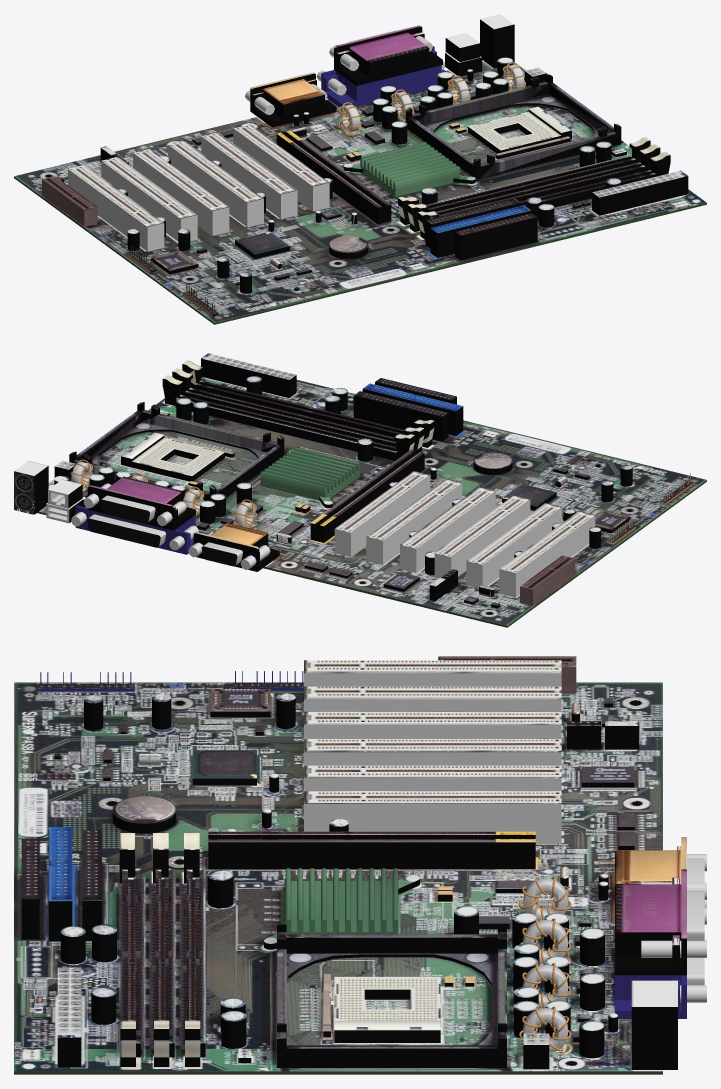
The model's file is motherboard.dae.
3 views of the same model, one above another, from view 1: azimuth 30°, elevation 25°; view 2: azimuth 150°, elevation 25°; view 3: azimuth 270°, elevation 25° (orthographic). The views are drawn at different scales.
Parts seen in each view (by area): view 1: SketchUp (×33); view 2: SketchUp (×39); view 3: SketchUp (×56).
Boxes of the visible parts, x1,y1,x2,y2 form: SketchUp (×33): (14,14,706,324); SketchUp (×39): (14,353,706,627); SketchUp (×56): (14,656,706,1074).
Size of the model in its own units: 3003 by 2260 by 286.
